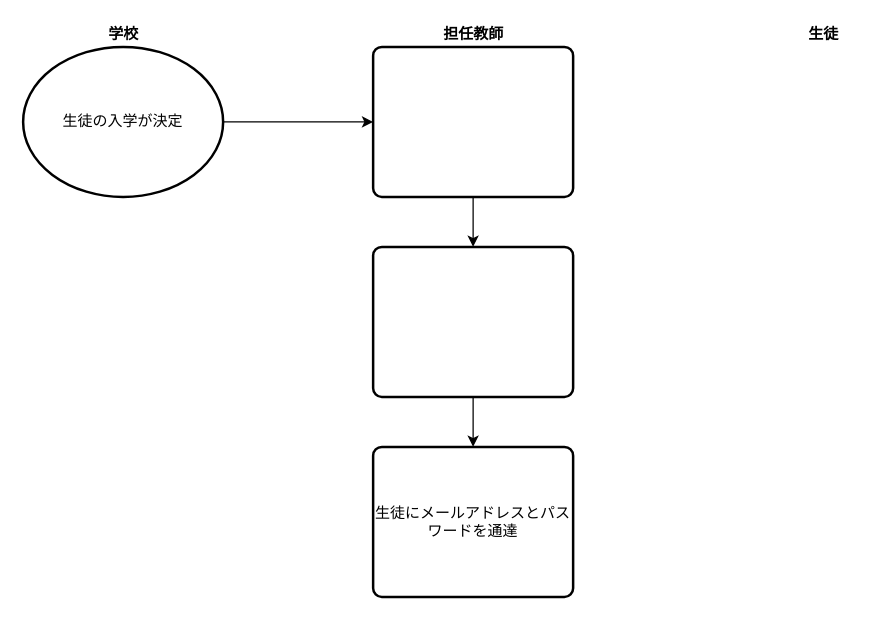
The diagram is 869 pixels wide and 619 high, and some of its shapes have lost their labels. Each missing label, with the centre of its shape:
生徒のメールアドレス・パスワード・出席番号・姓と名（漢字とカナ）を入力し、作成ボタンを押下: the point at 472,321
生徒アカウント作成ページに移動: the point at 472,121
